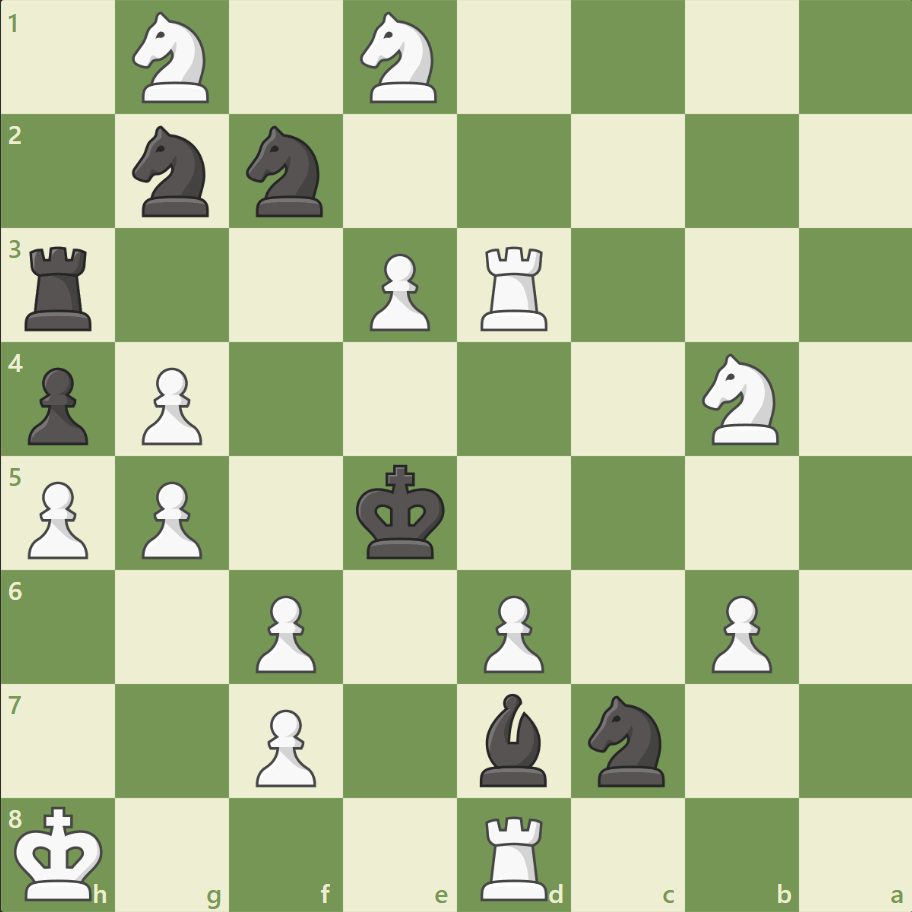K: (11, 798, 111, 906)
N: (351, 7, 449, 110), (124, 7, 222, 110), (692, 348, 789, 450)
P: (247, 700, 322, 791), (701, 586, 776, 677), (474, 586, 549, 677), (247, 586, 322, 677), (133, 473, 208, 564), (20, 473, 95, 564), (133, 359, 208, 450), (361, 246, 435, 337)
R: (473, 806, 556, 904), (473, 239, 556, 336)
b: (471, 687, 555, 790)
k: (351, 458, 451, 566)
n: (124, 121, 222, 223), (579, 688, 676, 791), (238, 121, 335, 223)
p: (20, 359, 95, 450)
r: (19, 239, 102, 336)
